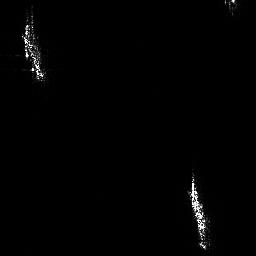ship: (186, 172, 212, 251), (20, 15, 47, 83)
